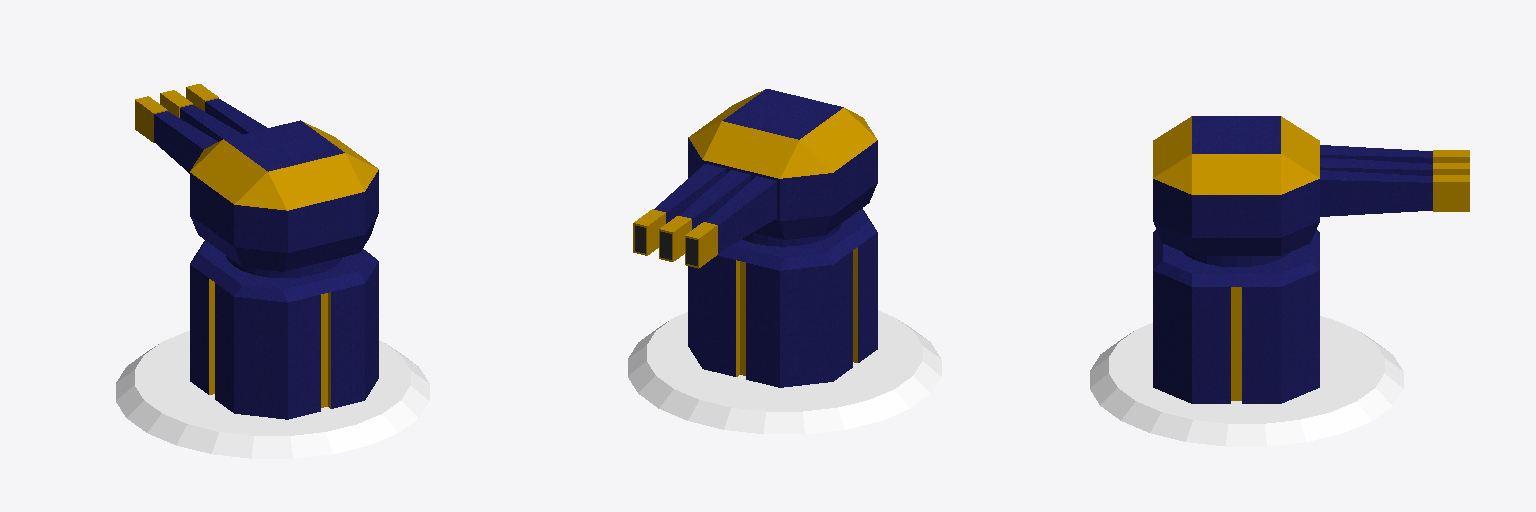
3 renders of one model, left to right at view 1: azimuth 30°, elevation 25°; view 2: azimuth 150°, elevation 25°; view 3: azimuth 270°, elevation 25°, orthographic.
Visible parts, largest first — view 1: Mesh1 Group1 Model, Mesh2 Group1 Model; view 2: Mesh1 Group1 Model, Mesh2 Group1 Model; view 3: Mesh1 Group1 Model, Mesh2 Group1 Model.
Part boxes in pixels (left/top/right/bottom): Mesh1 Group1 Model: left=135, top=84, right=378, bottom=419; Mesh2 Group1 Model: left=116, top=331, right=429, bottom=458; Mesh1 Group1 Model: left=633, top=89, right=877, bottom=387; Mesh2 Group1 Model: left=628, top=310, right=941, bottom=433; Mesh1 Group1 Model: left=1153, top=116, right=1469, bottom=403; Mesh2 Group1 Model: left=1090, top=316, right=1403, bottom=446.
Bounding box in the file's own units: 21.36 × 18.65 × 25.89.
Materials: 4 (1 with a texture image).